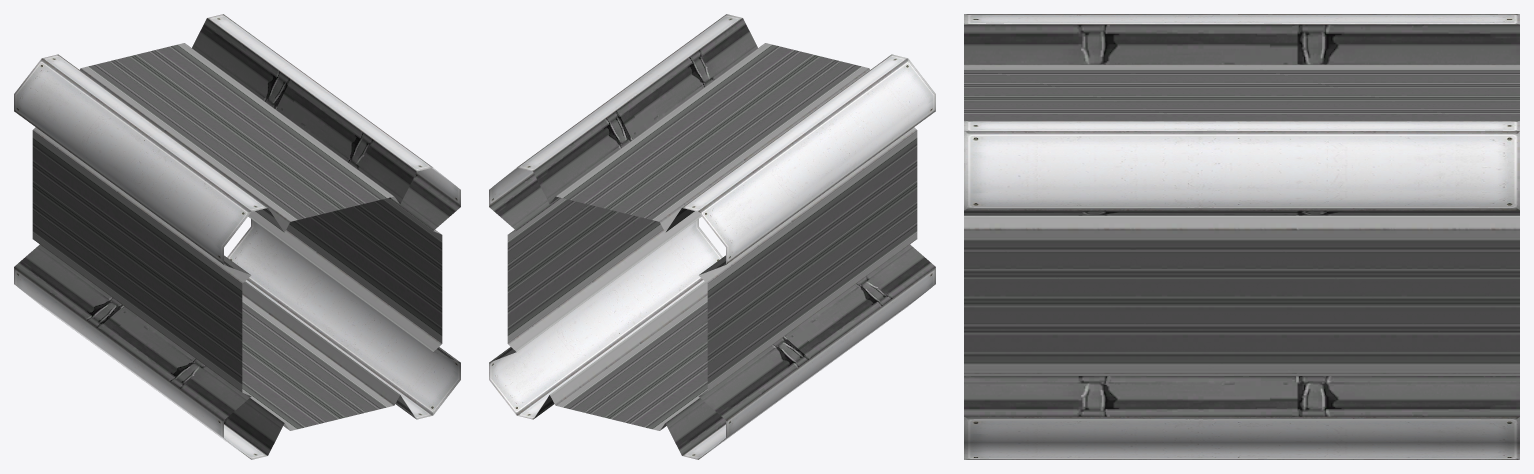
File: CeilingBrace_1x2.FBX
3 views of the same model, side by side, from view 1: azimuth 30°, elevation 25°; view 2: azimuth 150°, elevation 25°; view 3: azimuth 270°, elevation 25° (orthographic). The views are drawn at different scales.
Visible parts, largest first — view 1: CeilingBrace_1x2; view 2: CeilingBrace_1x2; view 3: CeilingBrace_1x2.
Part boxes in pixels (<box>): CeilingBrace_1x2: <box>14,14,460,459</box>; CeilingBrace_1x2: <box>489,14,935,459</box>; CeilingBrace_1x2: <box>964,14,1519,459</box>.
Bounding box in the file's own units: 1.3 × 1.3 × 2.
